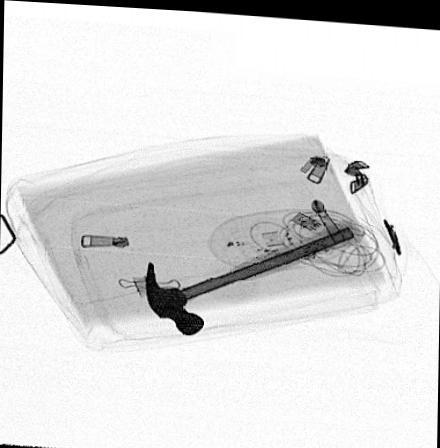Hammer: (145, 214, 363, 333)
